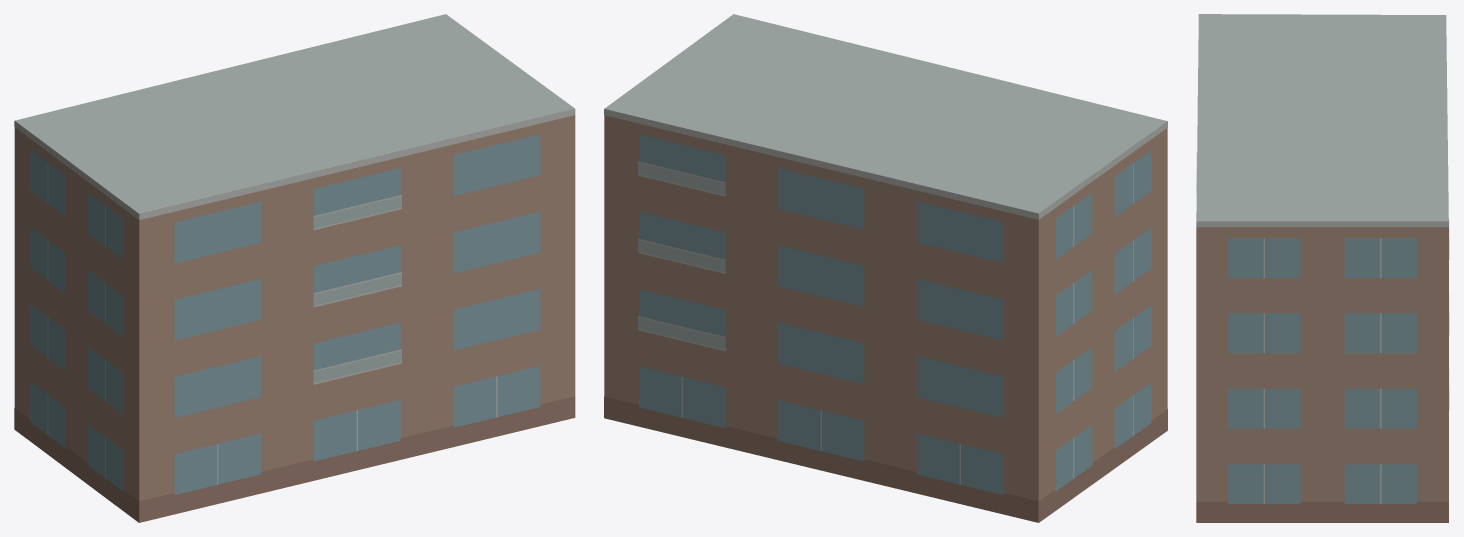
Rendered from survey-upis-32775027.glb.
The picture shows the model from 3 angles, left to right: view 1: azimuth 30°, elevation 25°; view 2: azimuth 150°, elevation 25°; view 3: azimuth 270°, elevation 25°; orthographic projection. The views are drawn at different scales.
Parts seen in each view (by area): view 1: survey-upis-32775027.tmp; view 2: survey-upis-32775027.tmp; view 3: survey-upis-32775027.tmp.
Part boxes in pixels (box(x1,y1,x2,y2)): survey-upis-32775027.tmp: box(14, 14, 575, 522); survey-upis-32775027.tmp: box(604, 14, 1167, 522); survey-upis-32775027.tmp: box(1196, 14, 1449, 522).
Size of the model in its own units: 17.54 by 11.9 by 9.07.
